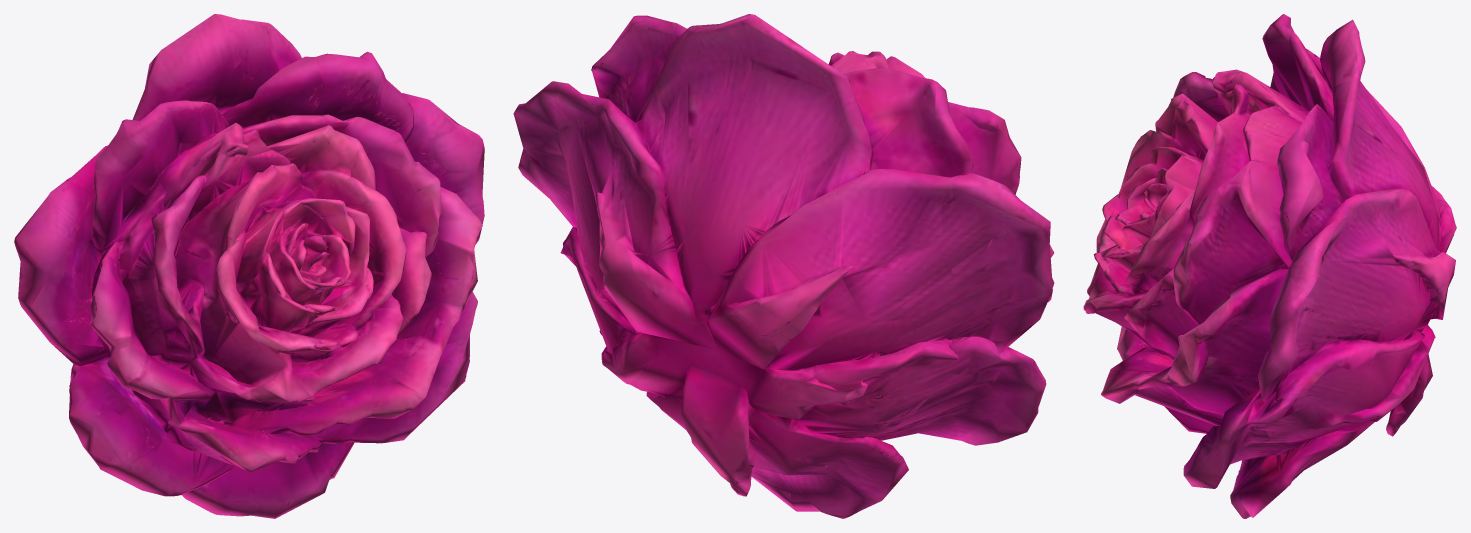
The picture shows the model from 3 angles, left to right: view 1: azimuth 30°, elevation 25°; view 2: azimuth 150°, elevation 25°; view 3: azimuth 270°, elevation 25°; orthographic projection. The views are drawn at different scales.
Visible parts, largest first — view 1: mesh_node; view 2: mesh_node; view 3: mesh_node.
Part boxes in pixels (left/top/right/bottom): mesh_node: left=14, top=14, right=484, bottom=518; mesh_node: left=513, top=14, right=1054, bottom=518; mesh_node: left=1083, top=14, right=1456, bottom=518.
Size of the model in its own units: 1.9 by 1.84 by 1.28.
Materials: 1 (1 with a texture image).
